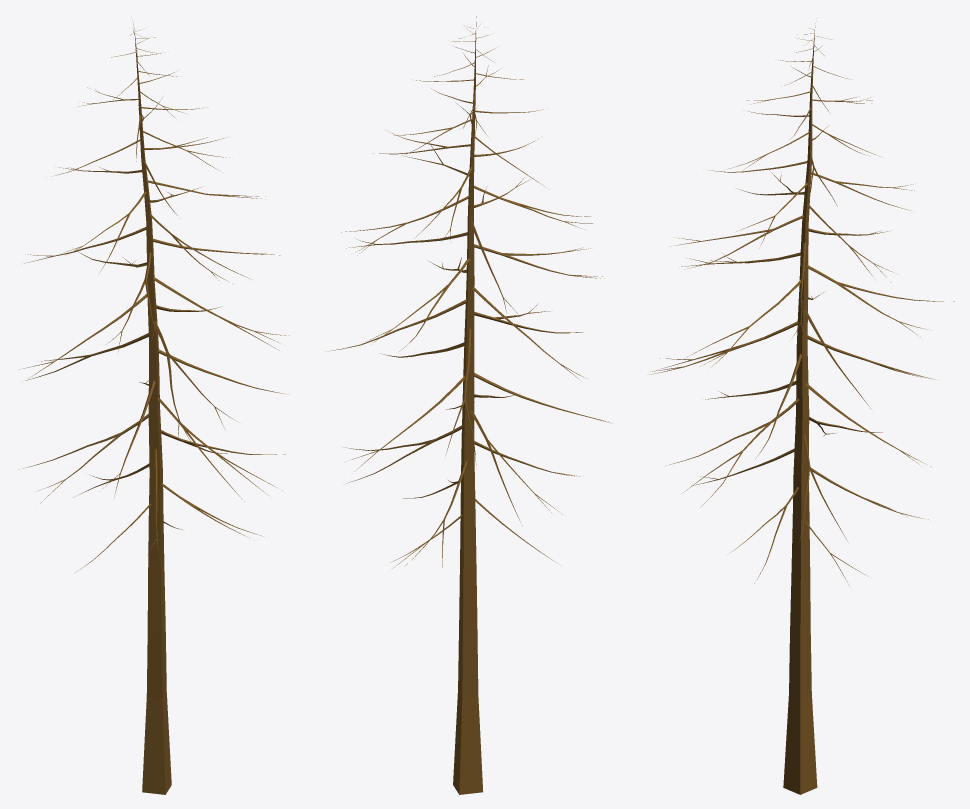
Rendered from Tree 4.fbx.
3 renders of one model, left to right at view 1: azimuth 30°, elevation 25°; view 2: azimuth 150°, elevation 25°; view 3: azimuth 270°, elevation 25°, orthographic. The views are drawn at different scales.
Visible parts, largest first — view 1: good tree 1.001; view 2: good tree 1.001; view 3: good tree 1.001.
Boxes of the visible parts, x1,y1,x2,y2 form: good tree 1.001: [19, 22, 289, 794]; good tree 1.001: [328, 16, 609, 794]; good tree 1.001: [649, 23, 954, 794].
Size of the model in its own units: 1621 by 4620 by 1706.
